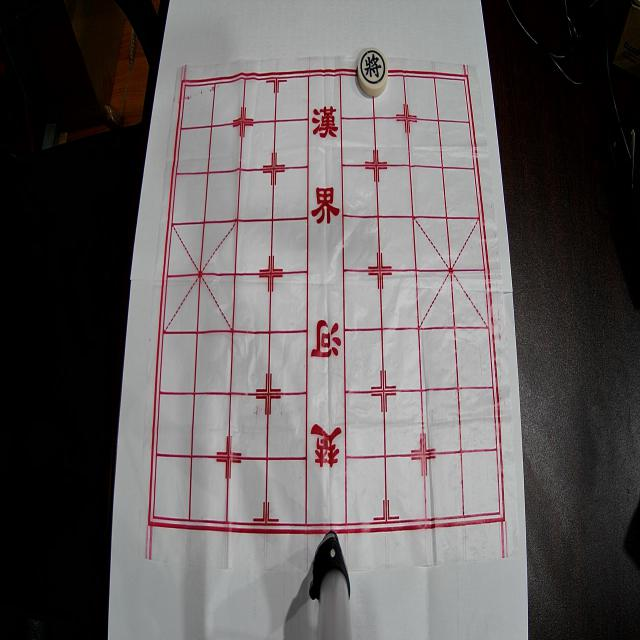black-general: (358, 48, 388, 96)
